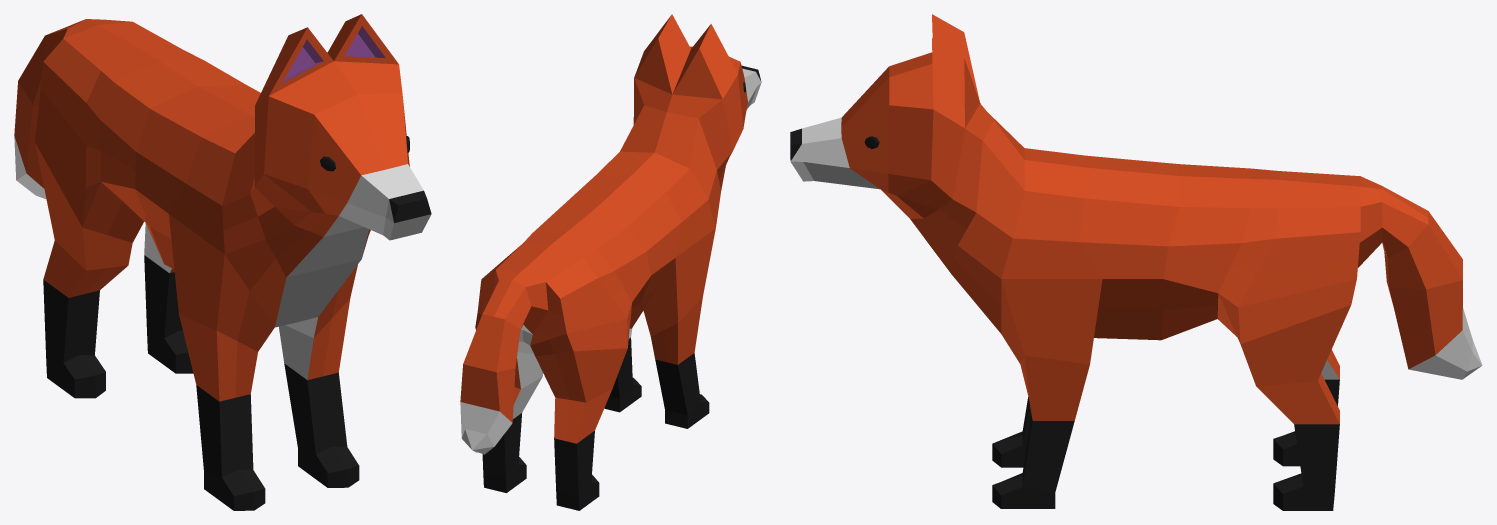
File: Fox_01.fbx
The picture shows the model from 3 angles, left to right: view 1: azimuth 30°, elevation 25°; view 2: azimuth 150°, elevation 25°; view 3: azimuth 270°, elevation 25°; orthographic projection. The views are drawn at different scales.
Parts seen in each view (by area): view 1: Fox_01; view 2: Fox_01; view 3: Fox_01.
Part boxes in pixels (<box>): Fox_01: <box>14,14,431,510</box>; Fox_01: <box>460,14,761,510</box>; Fox_01: <box>790,14,1482,510</box>.
Bounding box in the file's own units: 2.48 × 7.29 × 10.02.
